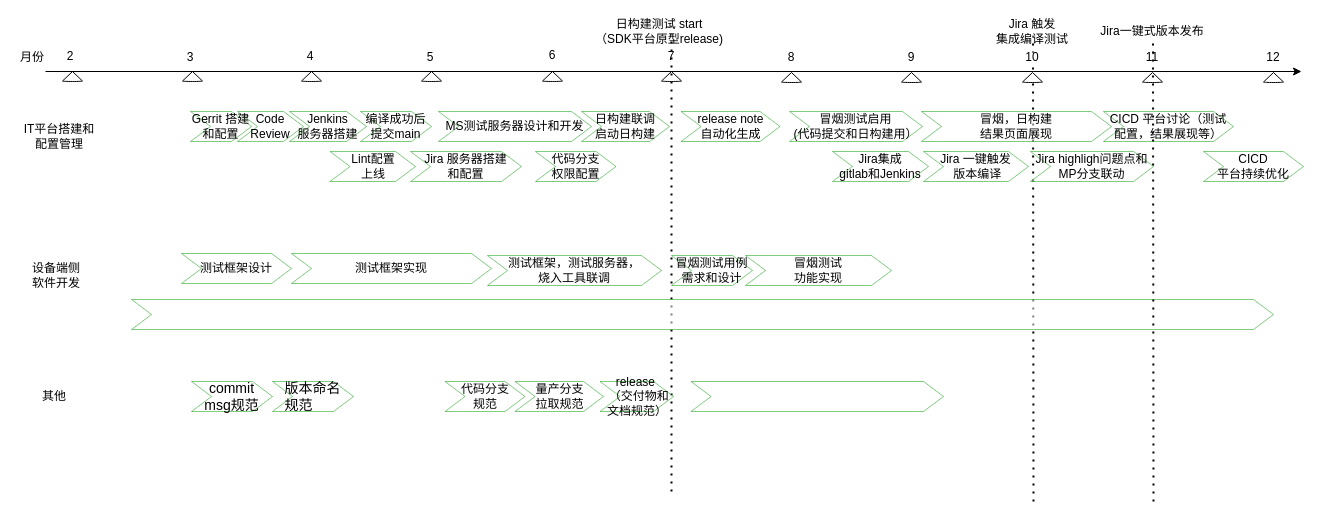
Image size: 1327x521. Some labels were removed from this diagram. The shapes that lost their labels are listed below. From the top down, each one's box as (x1, y1, x2, y2) in pixels, then its label:
(130, 298, 1274, 330): 各组件的单元测试实现 持续进行
(690, 380, 944, 412): SDK平台黑盒测试 讨论和 用例实现 （含自动和手动）
